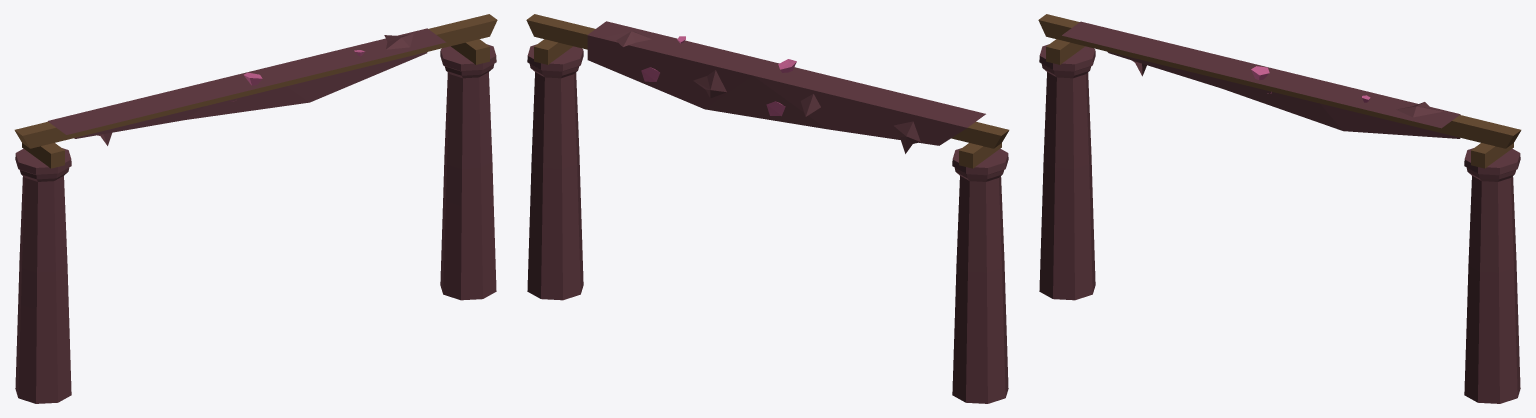
File: SM_Colonnade_End_Ivy_Blossom_Empire.fbx
3 views of the same model, side by side, from view 1: azimuth 30°, elevation 25°; view 2: azimuth 150°, elevation 25°; view 3: azimuth 330°, elevation 25° (orthographic).
Visible parts, largest first — view 1: SM_Colonnade_End_Ivy_Blossom_Empire; view 2: SM_Colonnade_End_Ivy_Blossom_Empire; view 3: SM_Colonnade_End_Ivy_Blossom_Empire.
Boxes of the visible parts, <box> form: SM_Colonnade_End_Ivy_Blossom_Empire: <box>14,14,497,403</box>; SM_Colonnade_End_Ivy_Blossom_Empire: <box>526,14,1009,403</box>; SM_Colonnade_End_Ivy_Blossom_Empire: <box>1038,14,1521,403</box>.
Size of the model in its own units: 6.71 by 3.71 by 0.7145.
